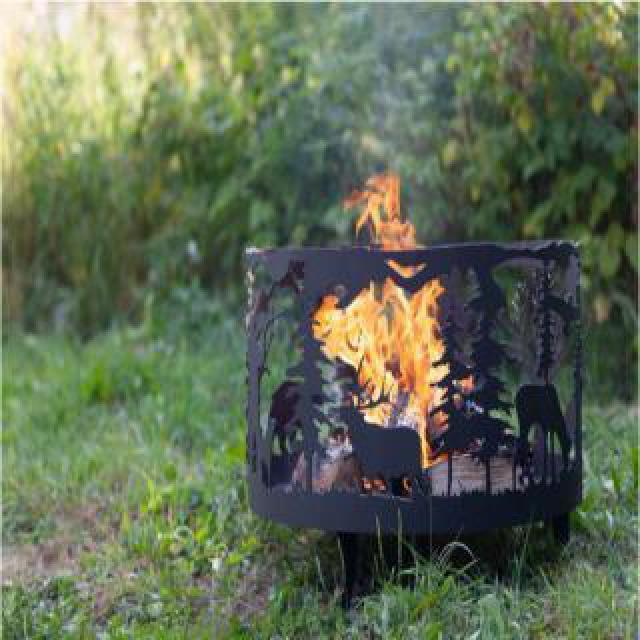Fire: (314, 156, 454, 466)
